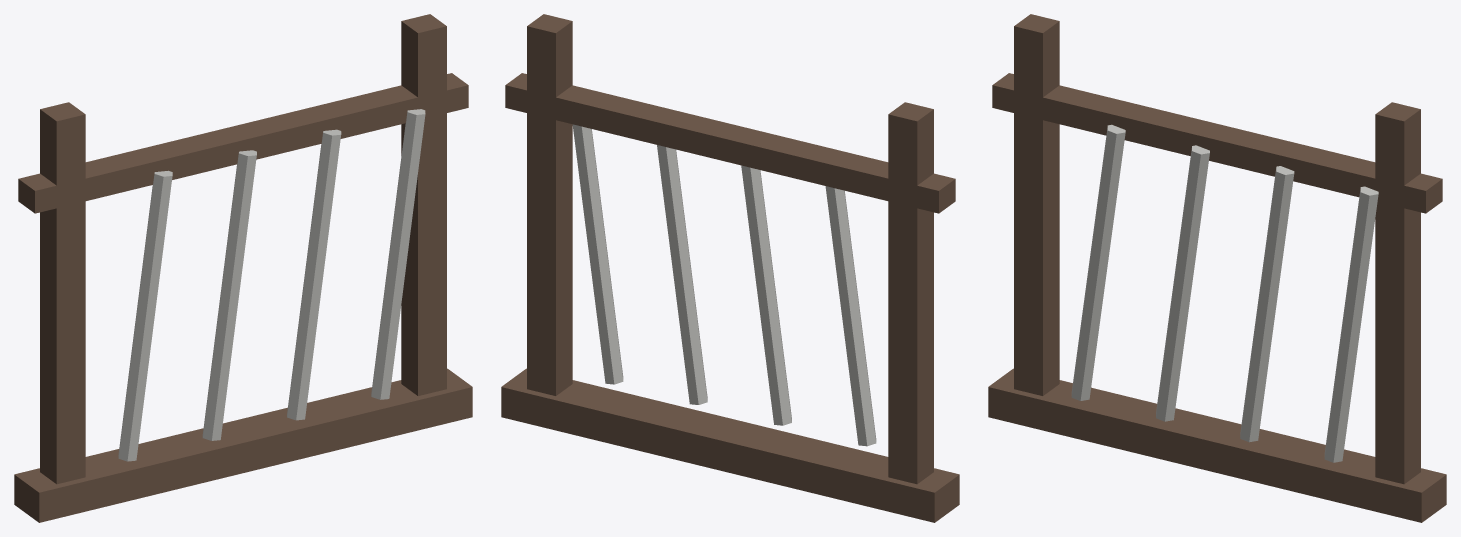
The model's file is weapon_rack.glb.
3 renders of one model, left to right at view 1: azimuth 30°, elevation 25°; view 2: azimuth 150°, elevation 25°; view 3: azimuth 330°, elevation 25°, orthographic.
Parts seen in each view (by area): view 1: rack_base, rack_left, rack_cross, rack_right, weapon_3, weapon_1, weapon_2, weapon_0; view 2: rack_base, rack_right, rack_left, rack_cross, weapon_3, weapon_0, weapon_1, weapon_2; view 3: rack_base, rack_left, rack_right, rack_cross, weapon_0, weapon_3, weapon_2, weapon_1.
Part boxes in pixels (left/top/right/bottom): rack_base: left=14, top=368, right=472, bottom=522; rack_left: left=40, top=102, right=85, bottom=484; rack_cross: left=18, top=73, right=468, bottom=213; rack_right: left=401, top=14, right=446, bottom=395; weapon_3: left=371, top=109, right=425, bottom=399; weapon_1: left=202, top=150, right=256, bottom=440; weapon_2: left=287, top=129, right=341, bottom=420; weapon_0: left=118, top=170, right=172, bottom=461; rack_base: left=501, top=368, right=959, bottom=522; rack_right: left=527, top=14, right=572, bottom=395; rack_left: left=888, top=102, right=933, bottom=484; rack_cross: left=505, top=73, right=955, bottom=213; weapon_3: left=572, top=124, right=623, bottom=384; weapon_0: left=825, top=186, right=876, bottom=446; weapon_1: left=741, top=165, right=791, bottom=425; weapon_2: left=657, top=145, right=707, bottom=404; rack_base: left=988, top=368, right=1446, bottom=522; rack_left: left=1014, top=14, right=1059, bottom=395; rack_right: left=1375, top=102, right=1420, bottom=484; rack_cross: left=992, top=73, right=1442, bottom=213; weapon_0: left=1071, top=124, right=1125, bottom=400; weapon_3: left=1324, top=186, right=1378, bottom=462; weapon_2: left=1240, top=166, right=1294, bottom=442; weapon_1: left=1156, top=145, right=1209, bottom=421.
Size of the model in its own units: 1.2 by 1.04 by 0.1317.
